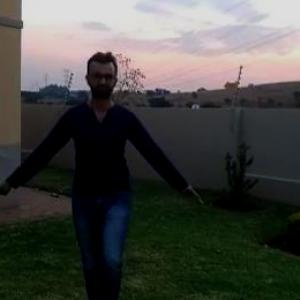land: (6, 54, 188, 299)
